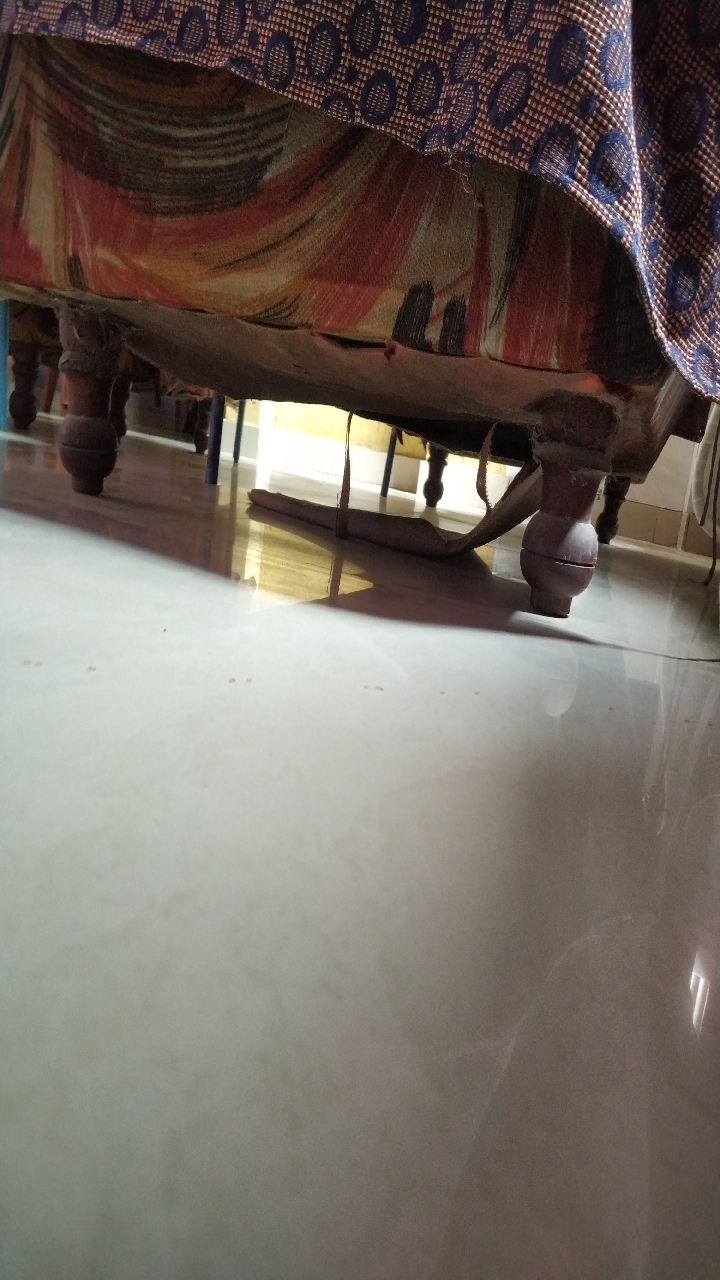Furnitures: (397, 321, 663, 645), (20, 223, 174, 503), (170, 335, 245, 500)
